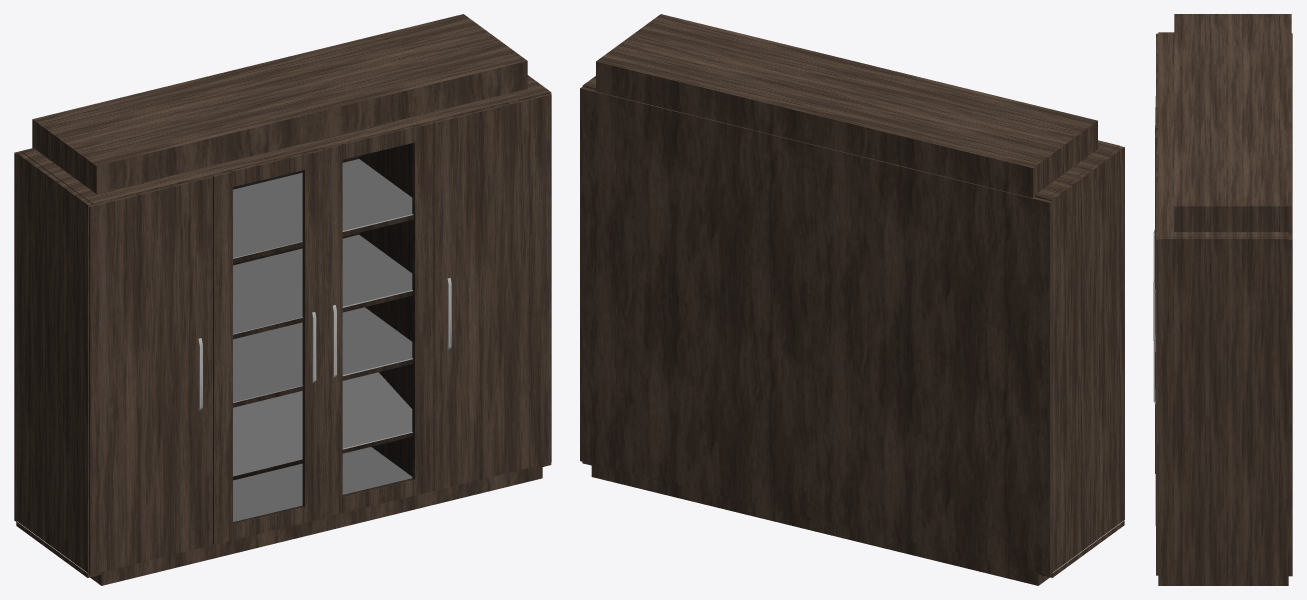
3 views of the same model, side by side, from view 1: azimuth 30°, elevation 25°; view 2: azimuth 150°, elevation 25°; view 3: azimuth 270°, elevation 25° (orthographic). The views are drawn at different scales.
Parts seen in each view (by area): view 1: Body, Door1_07 - Default_0, Door4_07 - Default_0, Box029_09 - Default_0, Box028_09 - Default_0, Door2_07 - Default_0, Door3_07 - Default_0; view 2: Body; view 3: Body, Door4_07 - Default_0, Door2_07 - Default_0.
Part boxes in pixels (x1=…): Body: x1=14, y1=14, x2=551, y2=585; Door1_07 - Default_0: x1=89, y1=176, x2=212, y2=574; Door4_07 - Default_0: x1=433, y1=93, x2=551, y2=490; Box029_09 - Default_0: x1=342, y1=143, x2=414, y2=496; Box028_09 - Default_0: x1=233, y1=170, x2=304, y2=523; Door2_07 - Default_0: x1=212, y1=149, x2=323, y2=544; Door3_07 - Default_0: x1=323, y1=122, x2=433, y2=517; Body: x1=580, y1=14, x2=1124, y2=585; Body: x1=1158, y1=14, x2=1292, y2=585; Door4_07 - Default_0: x1=1155, y1=187, x2=1158, y2=575; Door2_07 - Default_0: x1=1155, y1=89, x2=1158, y2=473.
Size of the model in its own units: 208 by 176 by 59.21.
5 materials, 1 textured.
